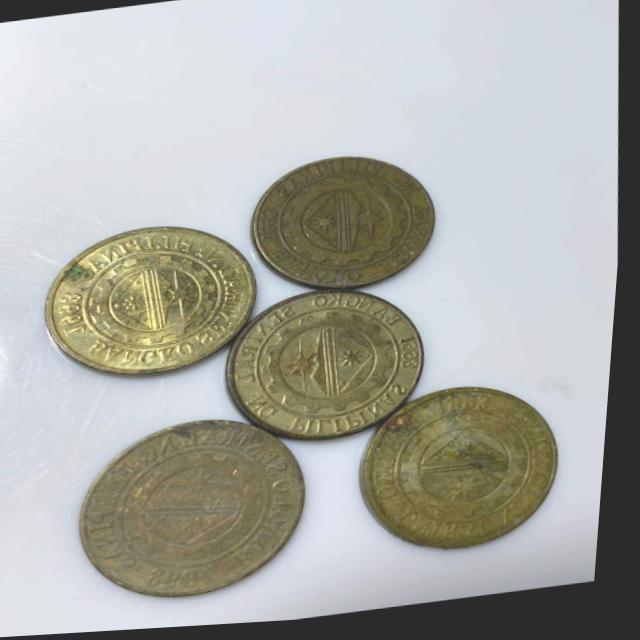25Cent_Old_Back: (75, 413, 326, 604), (35, 216, 261, 389), (365, 384, 575, 559), (234, 288, 434, 449), (260, 148, 446, 294)
